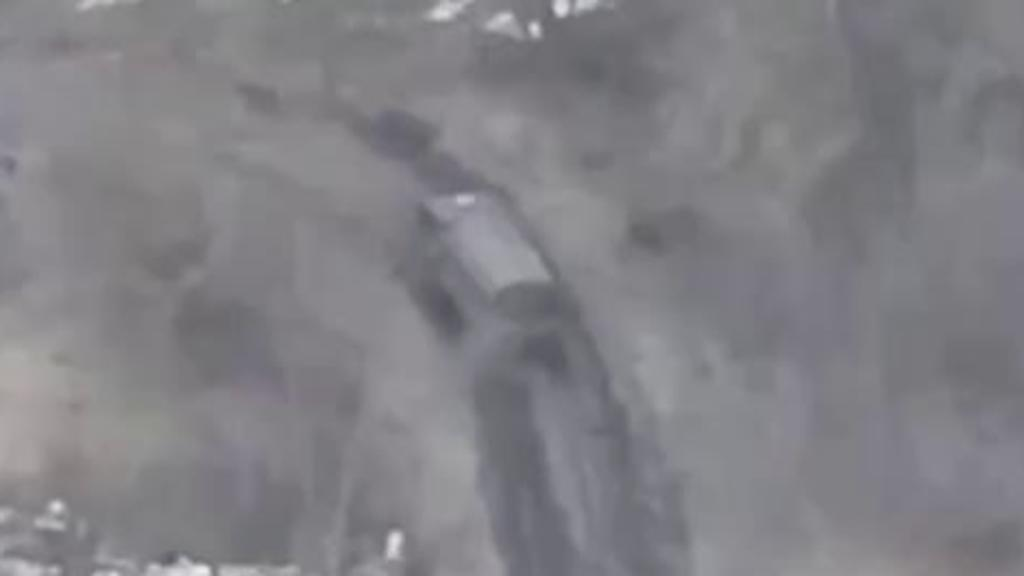TRUCK: (406, 180, 562, 356)
